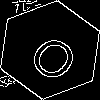O: (25, 25, 88, 85)
